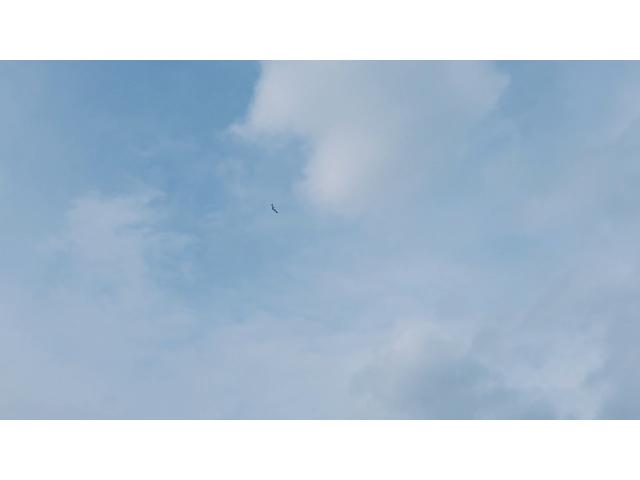Anti-Drone: (268, 202, 280, 216)
